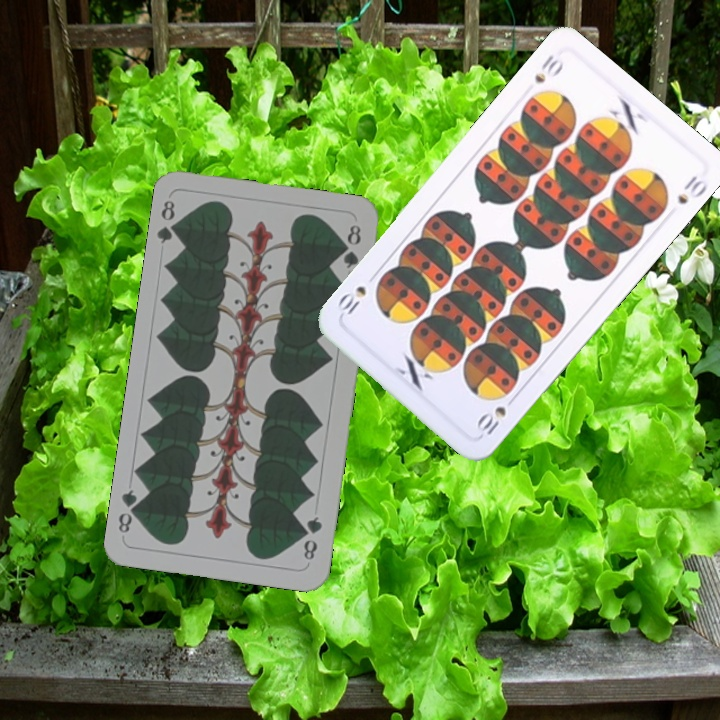G8: (154, 196, 184, 246), (299, 512, 325, 563)
S10: (472, 391, 520, 440), (530, 50, 567, 86)
